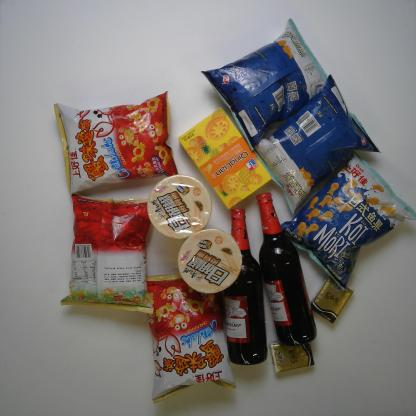Alcohol: (255, 191, 319, 348), (222, 206, 270, 368)
Dessert: (177, 104, 274, 213)
Instant Noodles: (146, 171, 214, 240), (177, 226, 243, 295)
Puffed Food: (281, 149, 415, 294), (251, 72, 383, 217), (199, 14, 332, 152), (52, 89, 180, 196), (140, 270, 240, 405), (57, 192, 156, 317)
Tissue: (308, 271, 355, 325), (267, 336, 317, 376)
